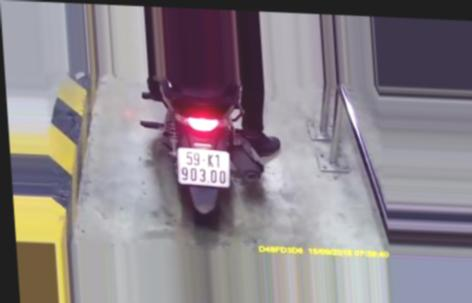License_Plate: (171, 143, 235, 192)
